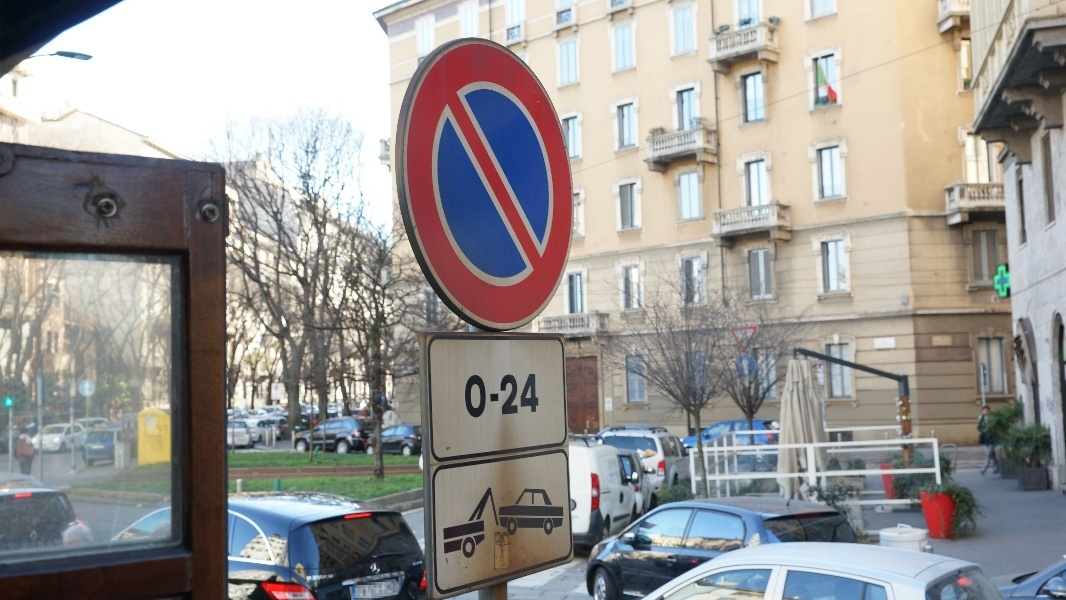text: (466, 374, 480, 420), (513, 374, 528, 415), (500, 374, 512, 415), (529, 374, 540, 415), (481, 374, 487, 420), (321, 575, 335, 582), (307, 575, 320, 582), (417, 561, 424, 567), (491, 394, 496, 402), (412, 561, 416, 567), (497, 394, 499, 402)
